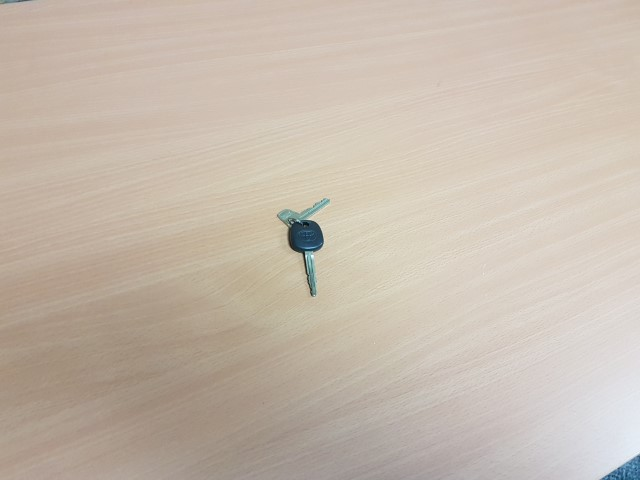key: (289, 220, 323, 298)
